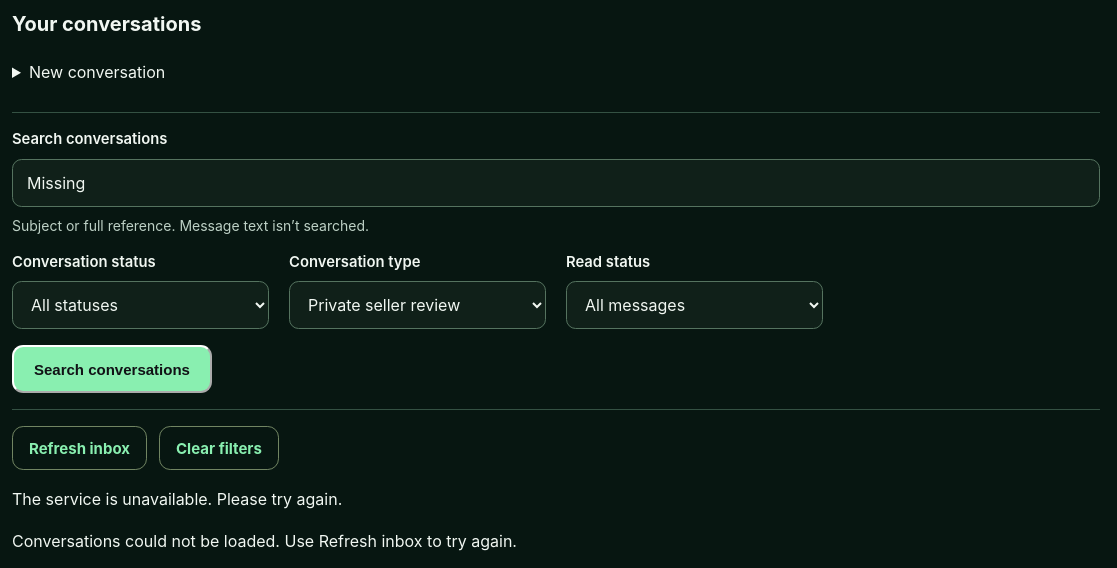
distinguishes failure from a filtered empty page and retries current criteria
Expected: the text "Conversations could not be loaded. Use Refresh inbox to try again." is shown, [12,532,517,552]
Expected: the text "No conversations match" is not shown
Click the button "Refresh inbox": [80, 448] box [12,426,147,470]
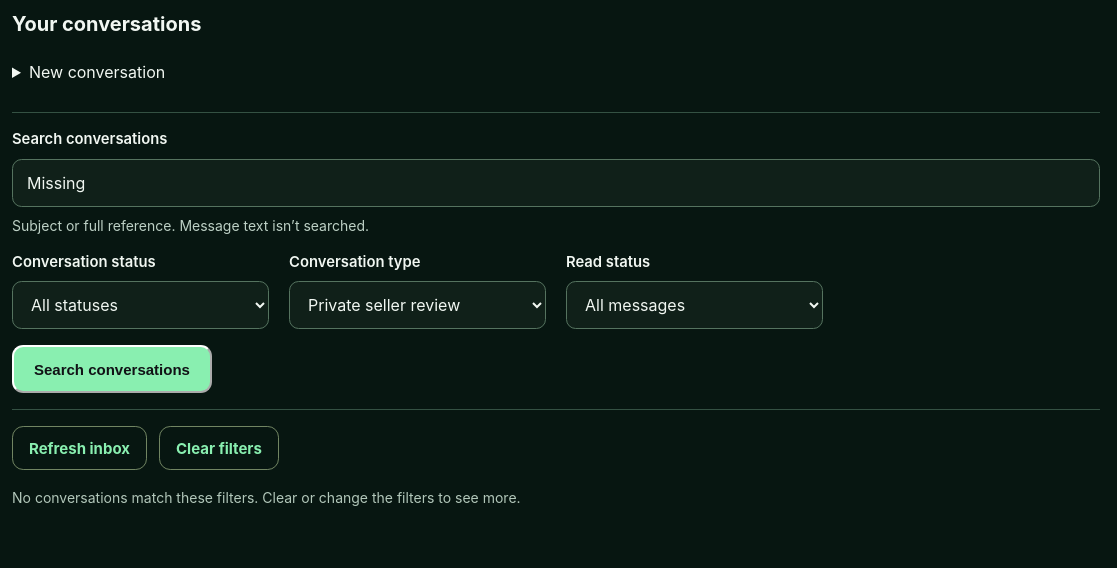
Expected: the text "No conversations match these filters. Clear or change the filters to see more." is shown, [12,489,521,506]
